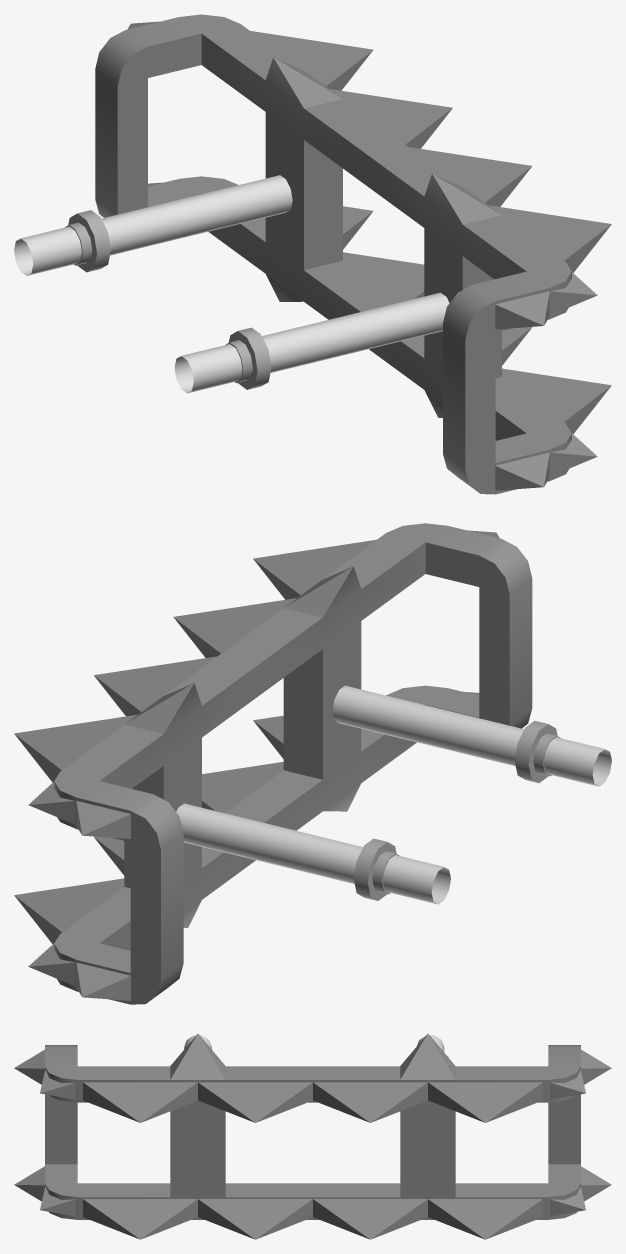
The model's file is Weapon_rollbar.fbx.
3 views of the same model, one above another, from view 1: azimuth 30°, elevation 25°; view 2: azimuth 150°, elevation 25°; view 3: azimuth 270°, elevation 25° (orthographic). The views are drawn at different scales.
Visible parts, largest first — view 1: Rollbar_main, Rollbar_base; view 2: Rollbar_main, Rollbar_base; view 3: Rollbar_main.
Part boxes in pixels (x1,y1,x2,y2): Rollbar_main: (14,14,611,494); Rollbar_base: (65,210,271,389); Rollbar_main: (14,523,611,1004); Rollbar_base: (353,720,560,900); Rollbar_main: (14,1033,611,1239).
Size of the model in its own units: 163 by 98.52 by 300.
